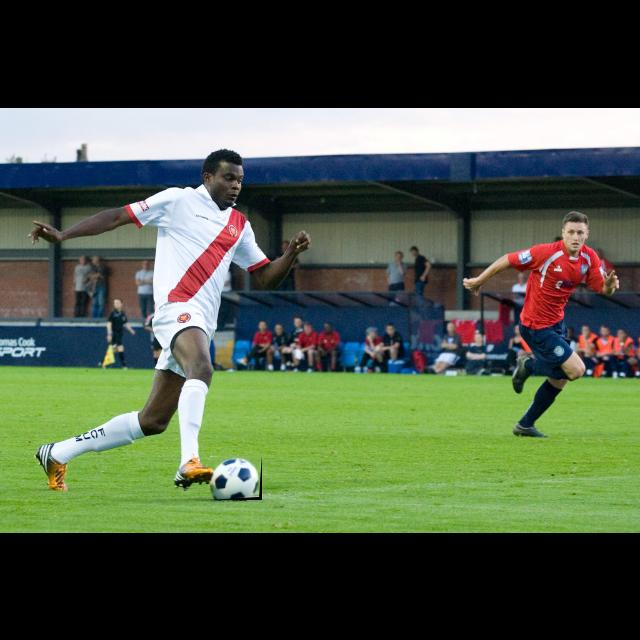Football: (210, 456, 262, 500)
